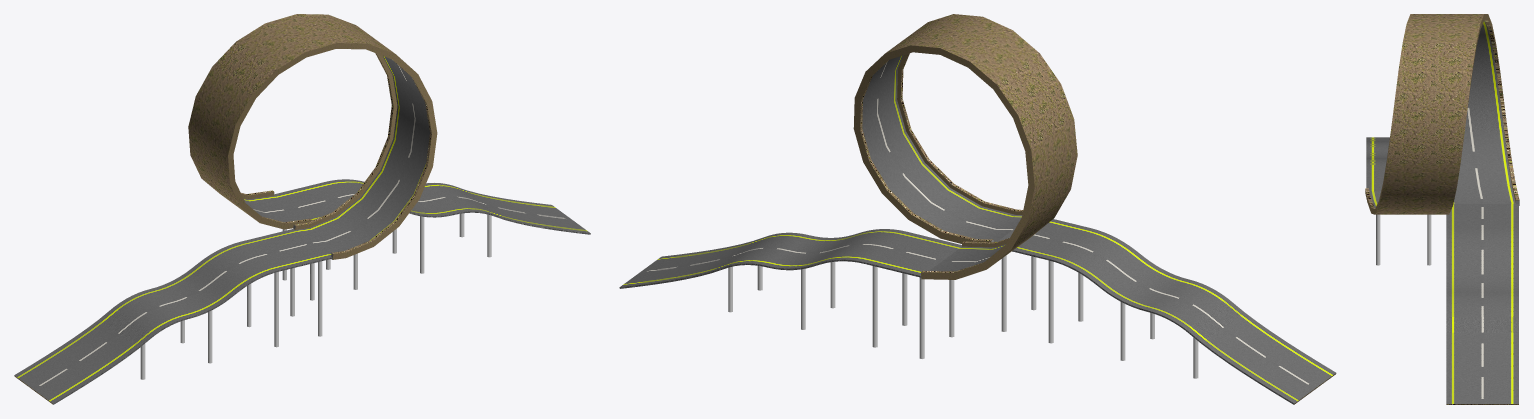
The model's file is Hudels_04.FBX.
3 views of the same model, side by side, from view 1: azimuth 30°, elevation 25°; view 2: azimuth 150°, elevation 25°; view 3: azimuth 270°, elevation 25° (orthographic). The views are drawn at different scales.
Visible parts, largest first — view 1: Helix002, Line004, Line003, Cylinder007, Cylinder006, Cylinder008; view 2: Helix002, Line004, Line003, Cylinder008, Cylinder005, Cylinder006, Cylinder007; view 3: Helix002, Line003, Line004, Cylinder007, Cylinder008.
Boxes of the visible parts, x1,y1,x2,y2 form: Helix002: [188, 14, 437, 259]; Line004: [14, 229, 332, 404]; Line003: [274, 179, 590, 234]; Cylinder007: [140, 261, 322, 379]; Cylinder006: [310, 214, 491, 300]; Cylinder008: [180, 268, 294, 343]; Helix002: [853, 14, 1077, 279]; Line004: [997, 219, 1336, 404]; Line003: [619, 229, 961, 288]; Cylinder008: [1001, 255, 1198, 378]; Cylinder005: [728, 266, 924, 358]; Cylinder006: [757, 261, 954, 337]; Cylinder007: [1031, 256, 1154, 339]; Helix002: [1365, 14, 1519, 214]; Line003: [1446, 204, 1518, 404]; Line004: [1366, 137, 1389, 191]; Cylinder007: [1376, 214, 1380, 265]; Cylinder008: [1427, 214, 1431, 265].
Bounding box in the file's own units: 436 × 198 × 108.
3 materials, 2 textured.
